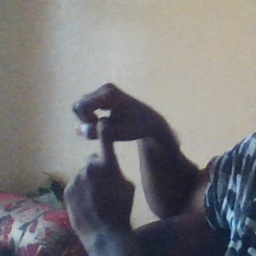Q: (53, 78, 159, 227)
